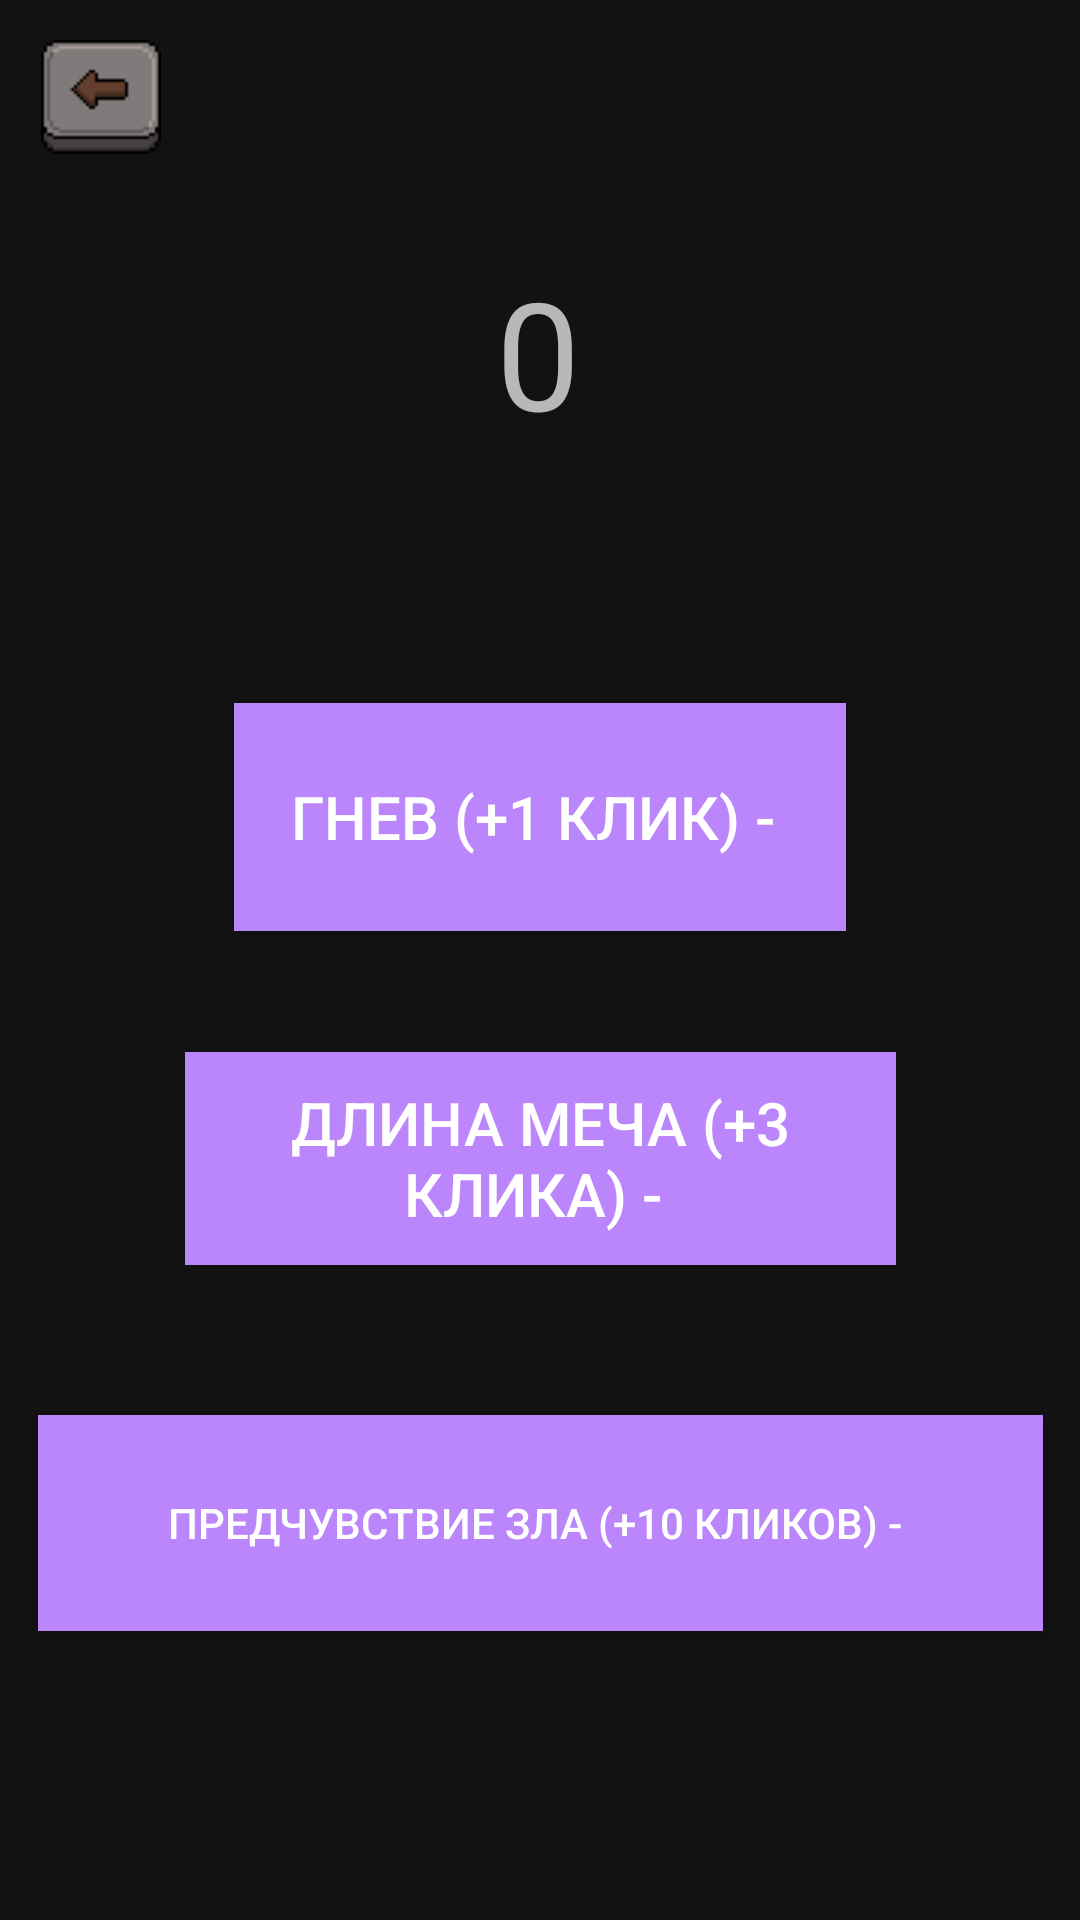

Named icons in this screenshot (1080px×1920px) and their centers, (x=x, y=y):
back: (x=101, y=96)
